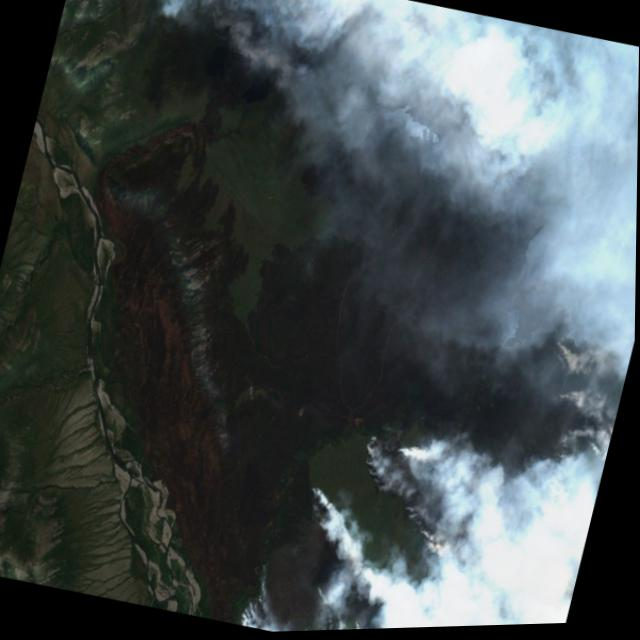fire: (343, 428, 478, 563), (521, 317, 611, 458), (239, 550, 302, 634), (303, 473, 336, 531), (332, 615, 381, 632), (296, 613, 325, 633), (310, 580, 329, 602)
